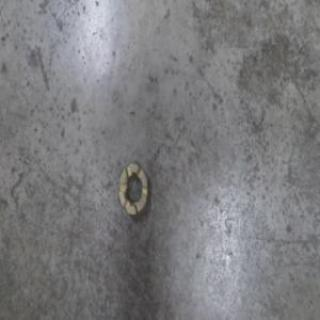Nuttrack_idkeyframe: (117, 160, 150, 220)
